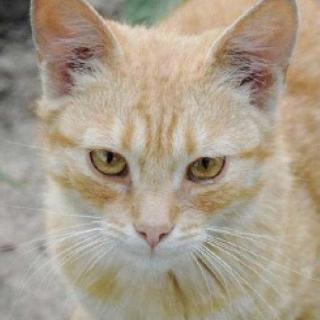cat: (20, 0, 305, 278)
nose: (127, 180, 180, 251)
